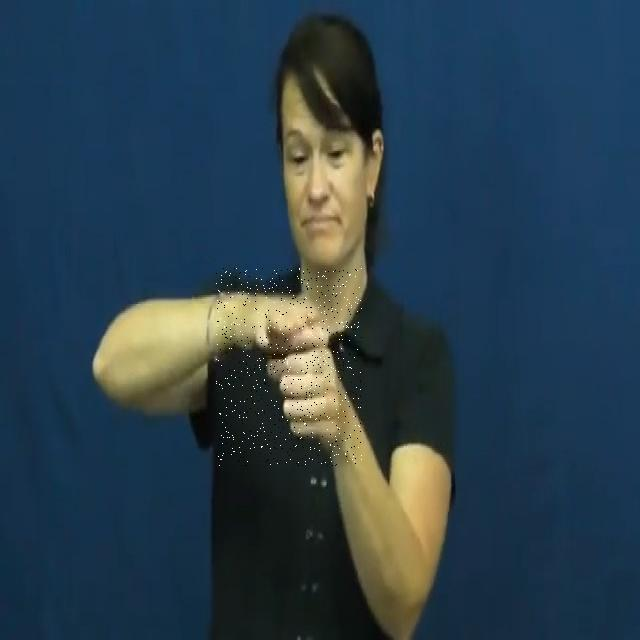lid: (216, 268, 362, 466)
